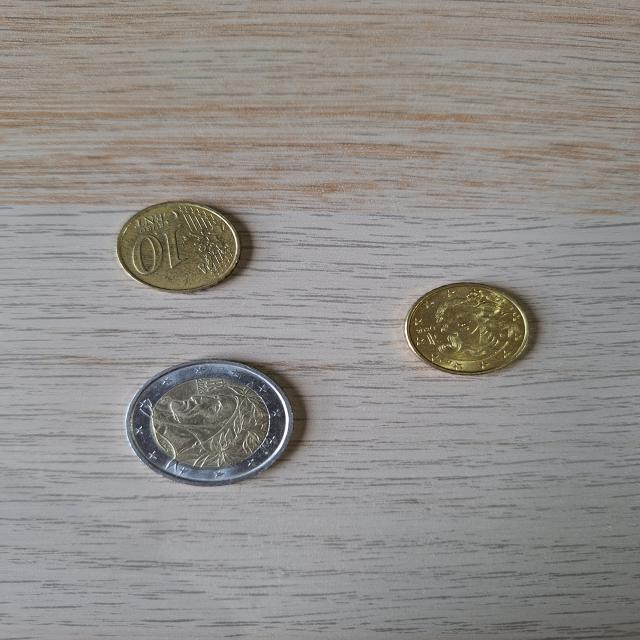10c: (385, 267, 555, 387), (101, 191, 257, 303)
2e: (114, 346, 318, 497)
